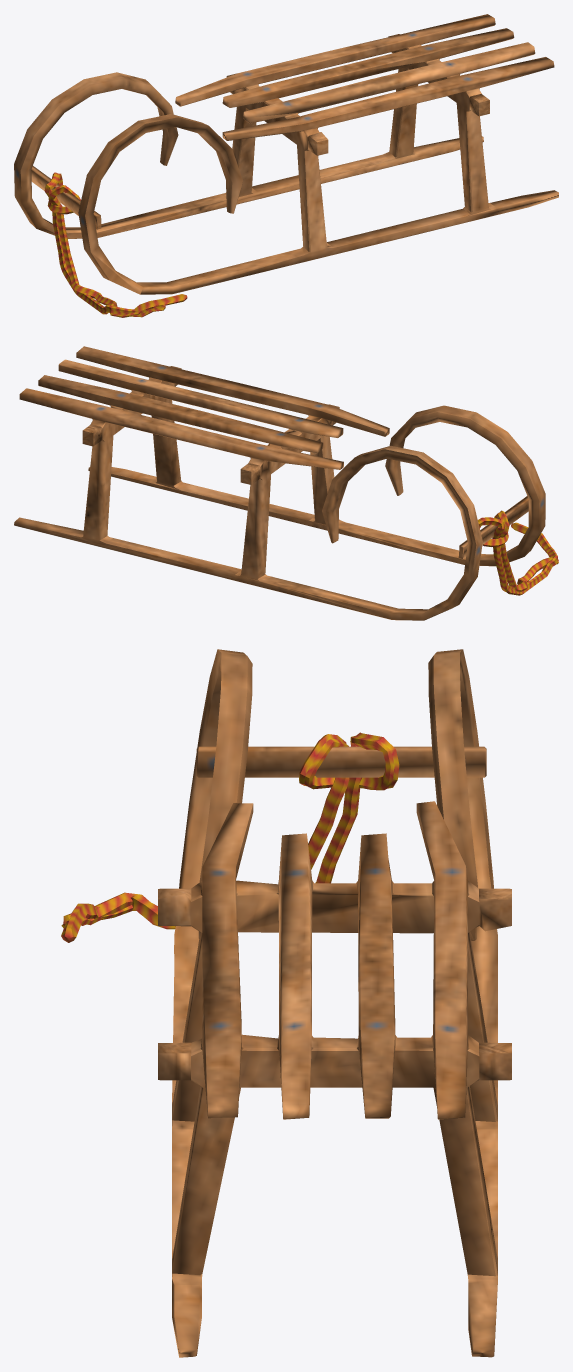
Rendered from hw_pop_sled.glb.
3 views of the same model, one above another, from view 1: azimuth 30°, elevation 25°; view 2: azimuth 150°, elevation 25°; view 3: azimuth 270°, elevation 25° (orthographic). The views are drawn at different scales.
Parts seen in each view (by area): view 1: pCube6_lambert2_0, pCylinder4_seil_0; view 2: pCube6_lambert2_0, pCylinder4_seil_0; view 3: pCube6_lambert2_0, pCylinder4_seil_0.
Part boxes in pixels (x1=…): pCube6_lambert2_0: x1=14, y1=14, x2=558, y2=294; pCylinder4_seil_0: x1=44, y1=172, x2=187, y2=317; pCube6_lambert2_0: x1=14, y1=346, x2=545, y2=620; pCylinder4_seil_0: x1=478, y1=510, x2=558, y2=595; pCube6_lambert2_0: x1=158, y1=649, x2=511, y2=1357; pCylinder4_seil_0: x1=61, y1=732, x2=399, y2=942.
Bounding box in the file's own units: 81.95 × 27.6 × 34.74.
Materials: 2 (2 with a texture image).
